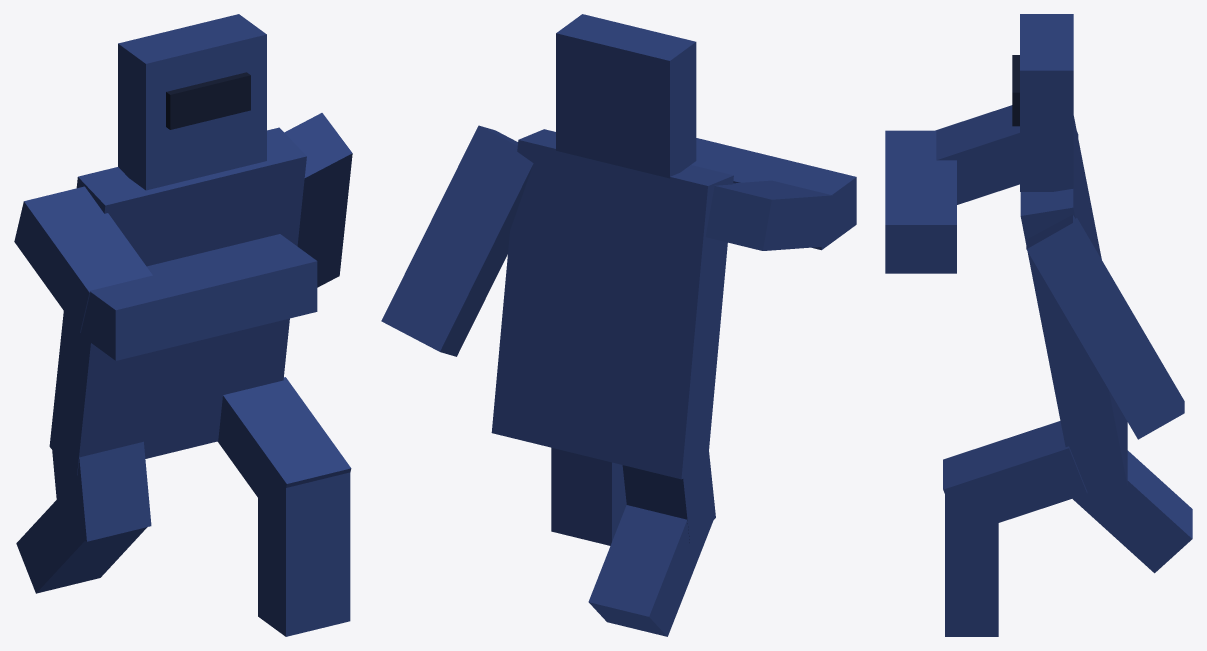
File: Ninja.fbx
The picture shows the model from 3 angles, left to right: view 1: azimuth 30°, elevation 25°; view 2: azimuth 150°, elevation 25°; view 3: azimuth 270°, elevation 25°; orthographic projection. The views are drawn at different scales.
Visible parts, largest first — view 1: Cube.001, Cube.010; view 2: Cube.001; view 3: Cube.001, Cube.010.
Part boxes in pixels (<box>): Cube.001: <box>14,14,352,636</box>; Cube.010: <box>166,72,250,129</box>; Cube.001: <box>381,14,856,636</box>; Cube.001: <box>885,14,1192,636</box>; Cube.010: <box>1012,55,1019,126</box>.
Size of the model in its own units: 106 by 162 by 82.51.
